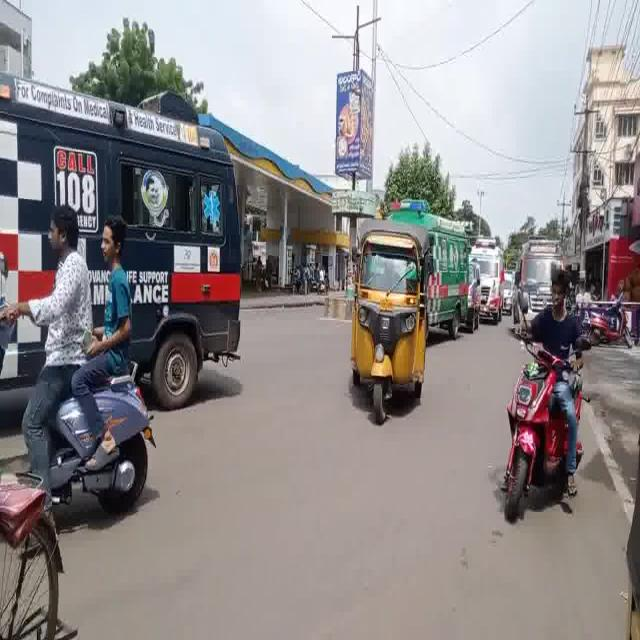ambulance: (1, 55, 252, 386), (512, 217, 569, 334), (432, 202, 467, 372), (472, 230, 502, 353)
